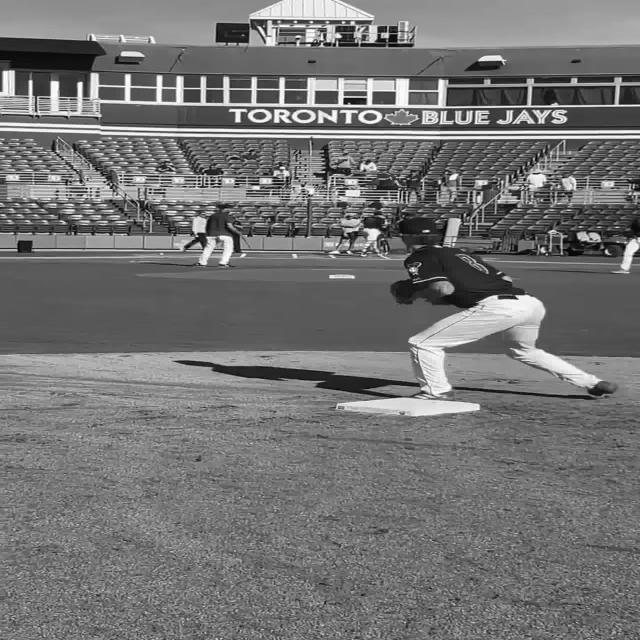base: (332, 396, 484, 414)
baseball_glove: (389, 278, 419, 304)
shoe: (403, 390, 455, 401), (586, 380, 616, 396), (610, 268, 630, 274), (217, 262, 235, 268), (376, 253, 389, 258), (192, 262, 206, 266), (327, 250, 341, 254), (178, 246, 186, 252), (360, 252, 368, 256), (344, 250, 352, 254)
